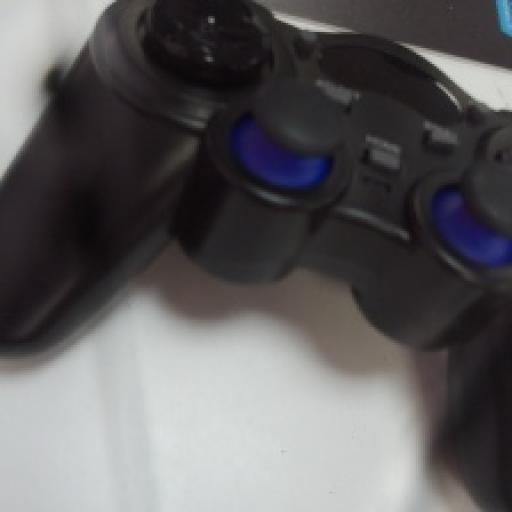game pad: (5, 0, 510, 508)
